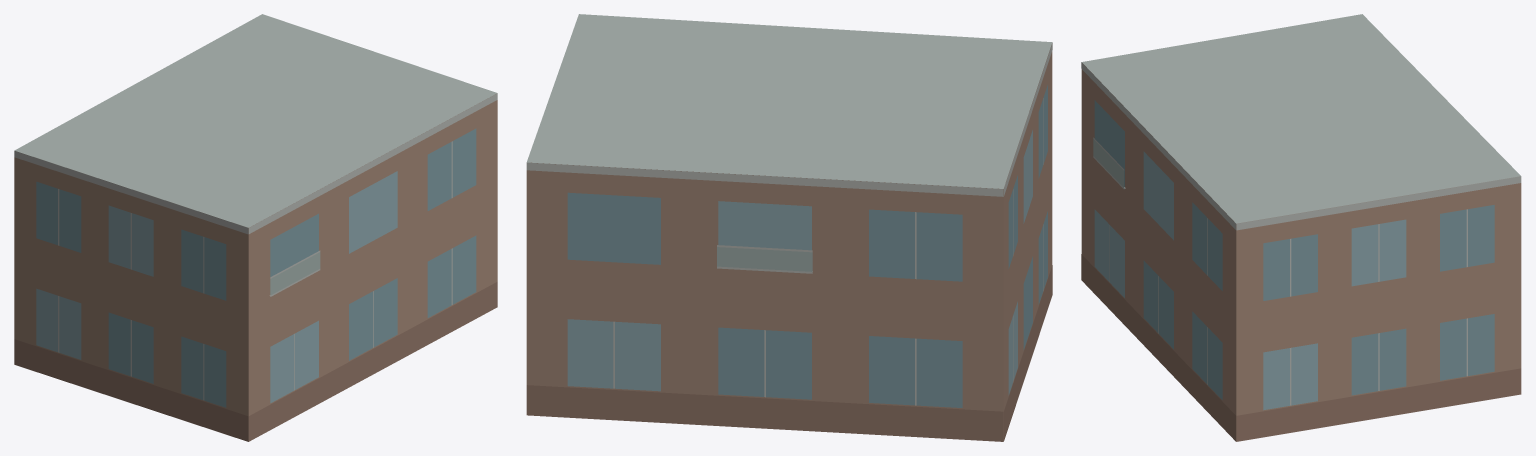
Rendered from survey-upis-32851338.glb.
The picture shows the model from 3 angles, left to right: view 1: azimuth 30°, elevation 25°; view 2: azimuth 150°, elevation 25°; view 3: azimuth 270°, elevation 25°; orthographic projection. The views are drawn at different scales.
Parts seen in each view (by area): view 1: survey-upis-32851338.tmp; view 2: survey-upis-32851338.tmp; view 3: survey-upis-32851338.tmp.
Boxes of the visible parts, left/top/right/bottom form: survey-upis-32851338.tmp: left=14, top=14, right=497, bottom=441; survey-upis-32851338.tmp: left=526, top=14, right=1052, bottom=441; survey-upis-32851338.tmp: left=1081, top=14, right=1521, bottom=441.
Bounding box in the file's own units: 16.21 × 7.86 × 14.37.
